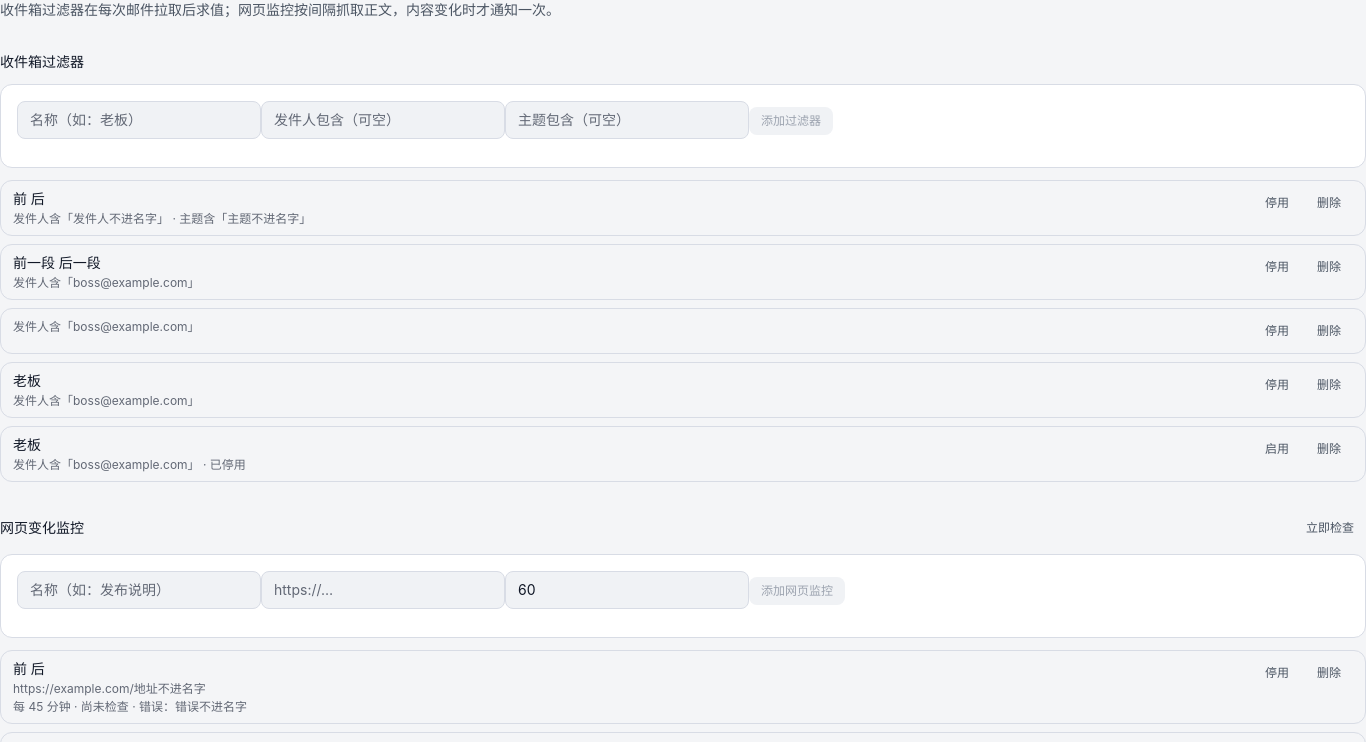
MonitorsPanel › names 停用 and 删除 with the monitor name, and leaves the other controls bare
Expected: the 1st text with class "truncate" reads "前 后", [13, 190, 45, 207]
Expected: the button "停用" in the row of "发件人含「发件人不进名字」" is shown, [1253, 189, 1301, 217]
Click the 4th button "删除".
click(1329, 385)  # box [1305, 371, 1353, 399]
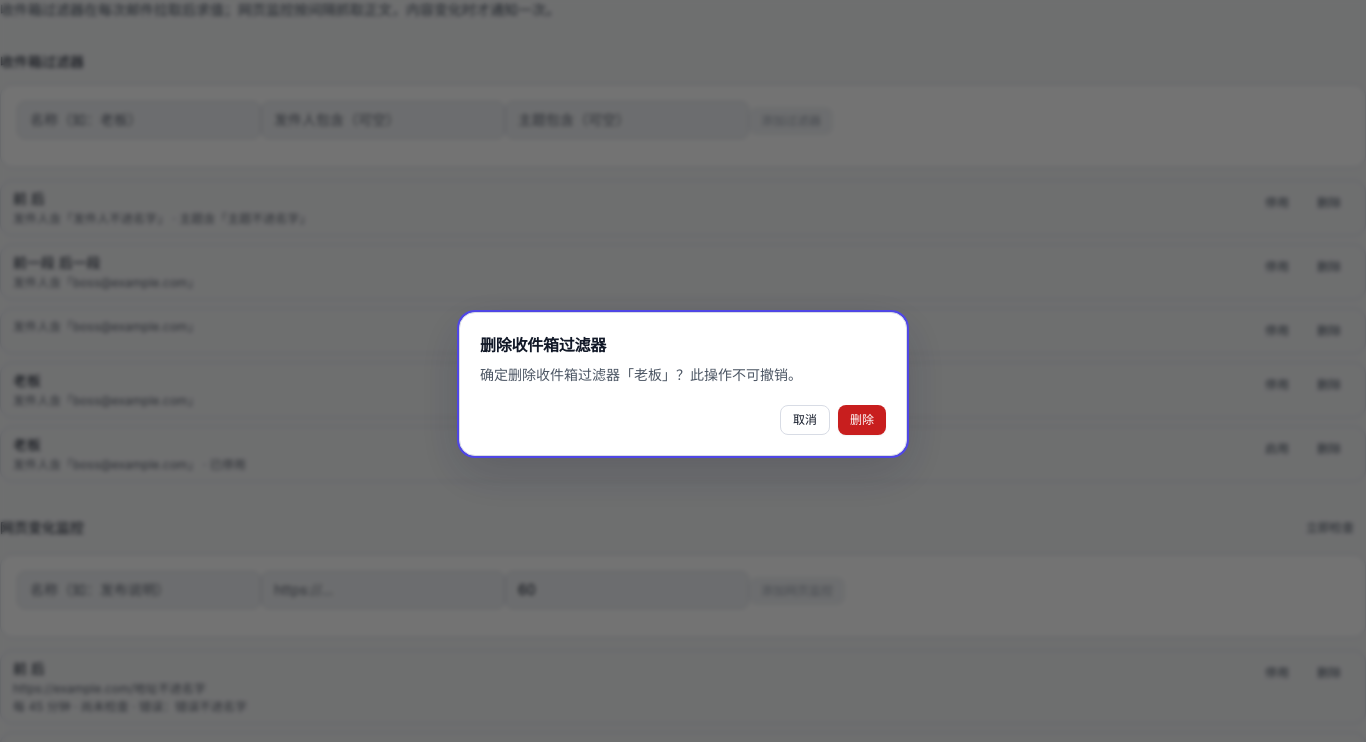
Now the dialog shows "老板", box [480, 366, 802, 383]
